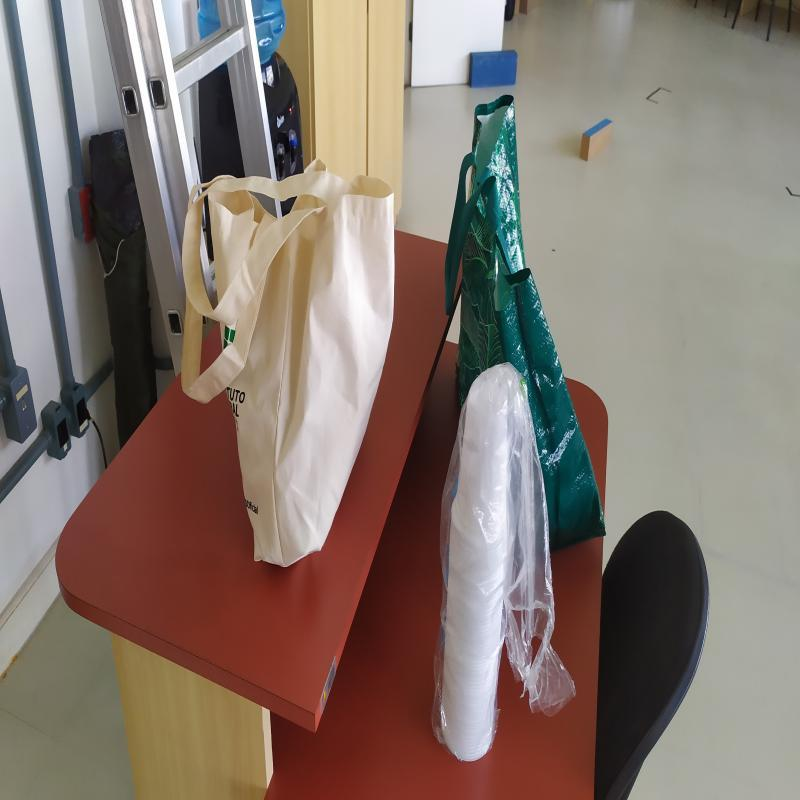Bag: (178, 154, 398, 574), (445, 91, 606, 557)
